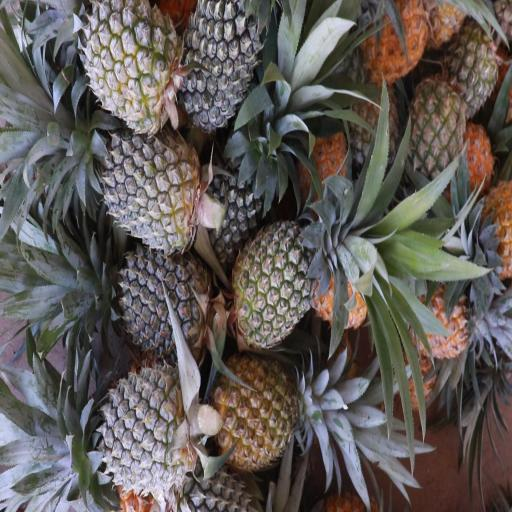------------------------------: (234, 223, 332, 342), (89, 0, 178, 128), (212, 354, 304, 464), (404, 78, 469, 182)
Pineapple - v8 v1: (369, 0, 434, 84)
